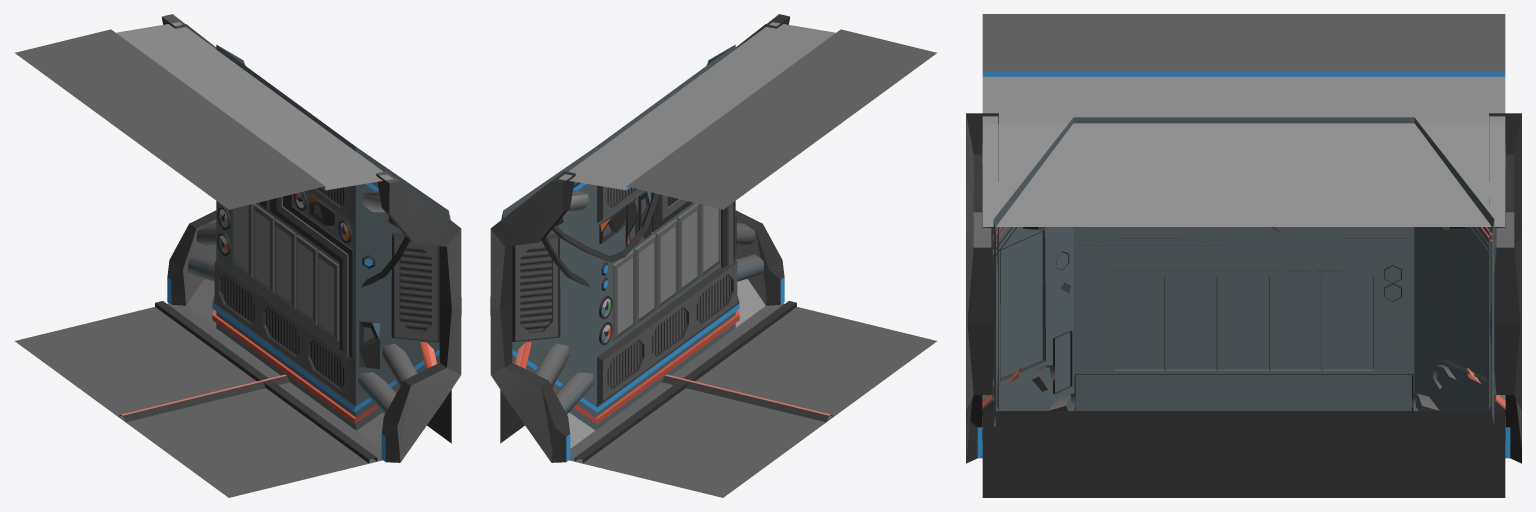
Rendered from Half_Straight_SciFi_Tunnel_2.fbx.
3 renders of one model, left to right at view 1: azimuth 30°, elevation 25°; view 2: azimuth 150°, elevation 25°; view 3: azimuth 270°, elevation 25°, orthographic. The views are drawn at different scales.
Parts seen in each view (by area): view 1: Half_Straight_SciFi_Tunnel_2_East, Half_Straight_SciFi_Tunnel_2, Half_Straight_SciFi_Tunnel_2_Ceiling; view 2: Half_Straight_SciFi_Tunnel_2_East, Half_Straight_SciFi_Tunnel_2, Half_Straight_SciFi_Tunnel_2_Ceiling; view 3: Half_Straight_SciFi_Tunnel_2_East, Half_Straight_SciFi_Tunnel_2_Ceiling, Half_Straight_SciFi_Tunnel_2.
Boxes of the visible parts, x1,y1,x2,y2 form: Half_Straight_SciFi_Tunnel_2_East: [162, 14, 461, 462]; Half_Straight_SciFi_Tunnel_2: [15, 279, 451, 497]; Half_Straight_SciFi_Tunnel_2_Ceiling: [15, 22, 392, 209]; Half_Straight_SciFi_Tunnel_2_East: [490, 14, 789, 462]; Half_Straight_SciFi_Tunnel_2: [500, 279, 936, 497]; Half_Straight_SciFi_Tunnel_2_Ceiling: [559, 22, 936, 209]; Half_Straight_SciFi_Tunnel_2_East: [966, 113, 1521, 463]; Half_Straight_SciFi_Tunnel_2_Ceiling: [982, 14, 1505, 123]; Half_Straight_SciFi_Tunnel_2: [982, 411, 1505, 497].
Size of the model in its own units: 306 by 373 by 532.
